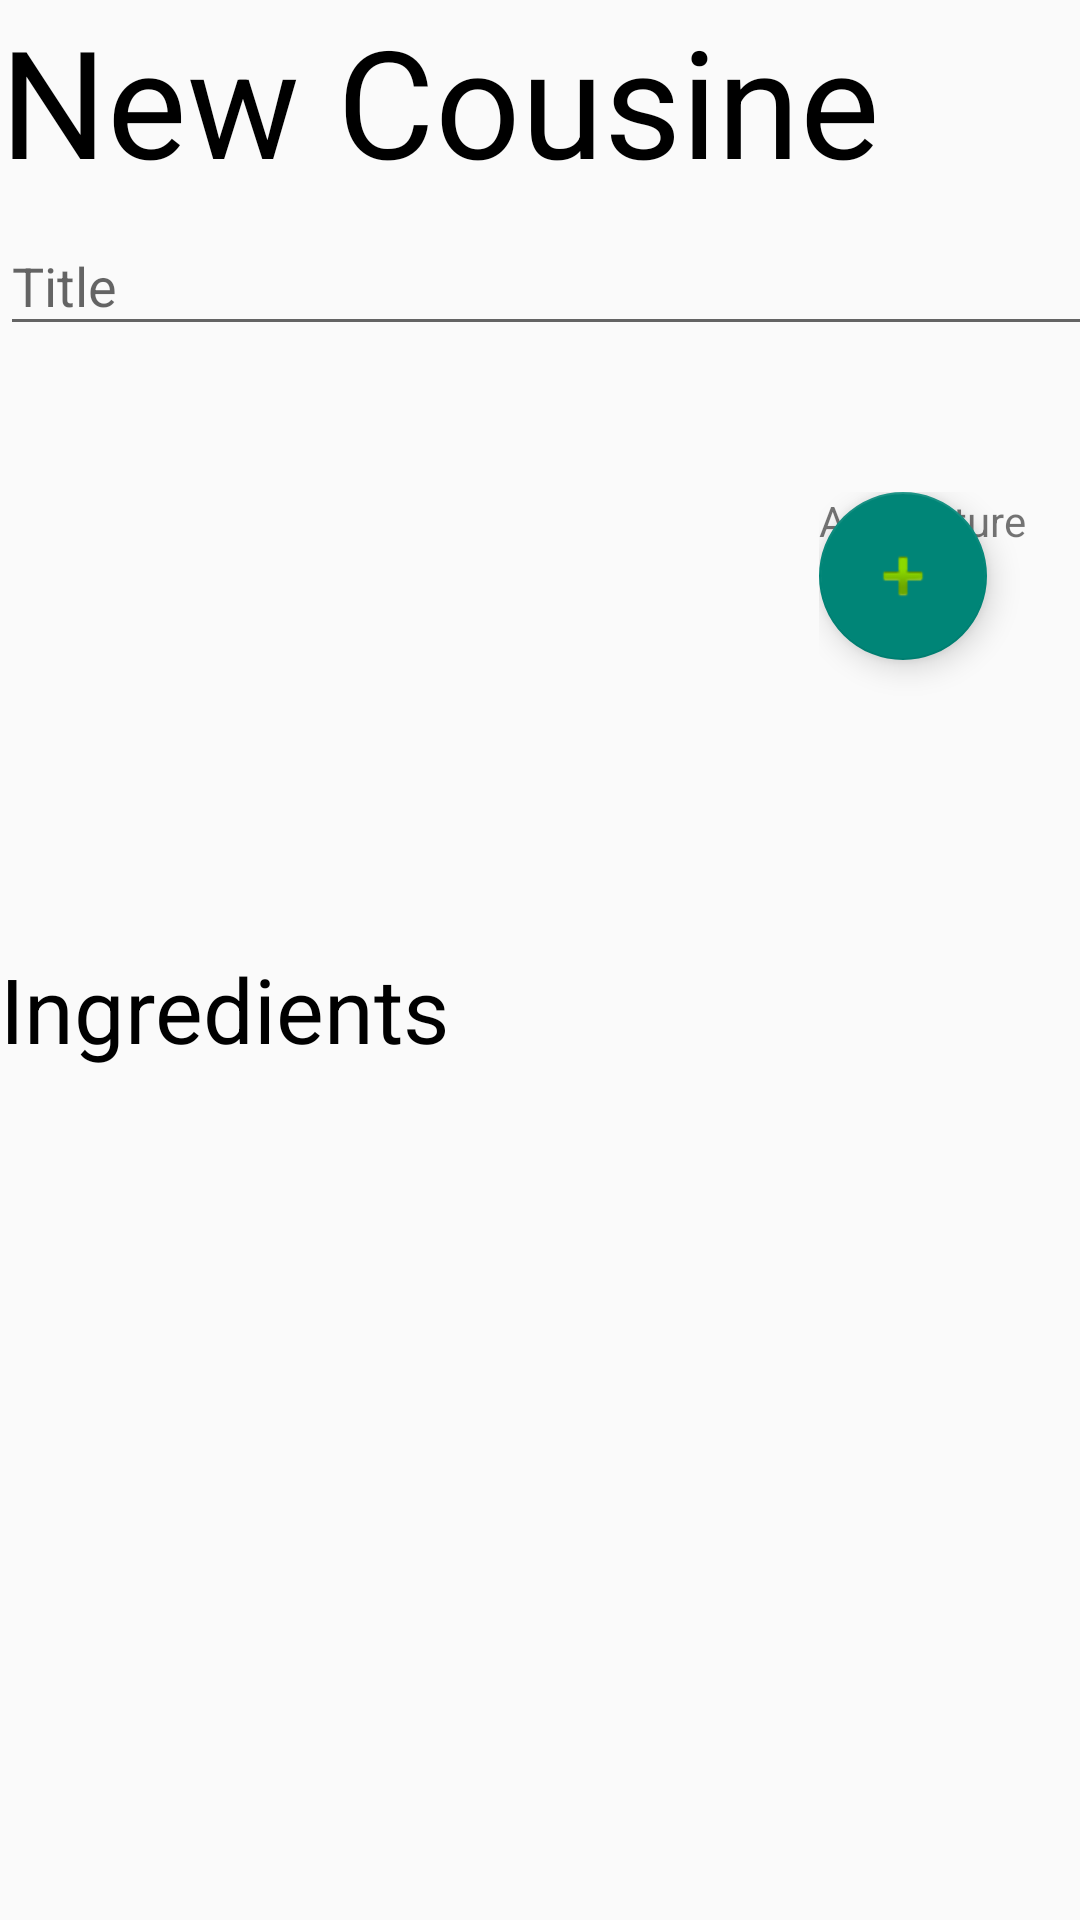

Icons on this 1080 × 1920 Android screen, each with the point to tap as (x=x, y=y):
add: (x=903, y=576)
